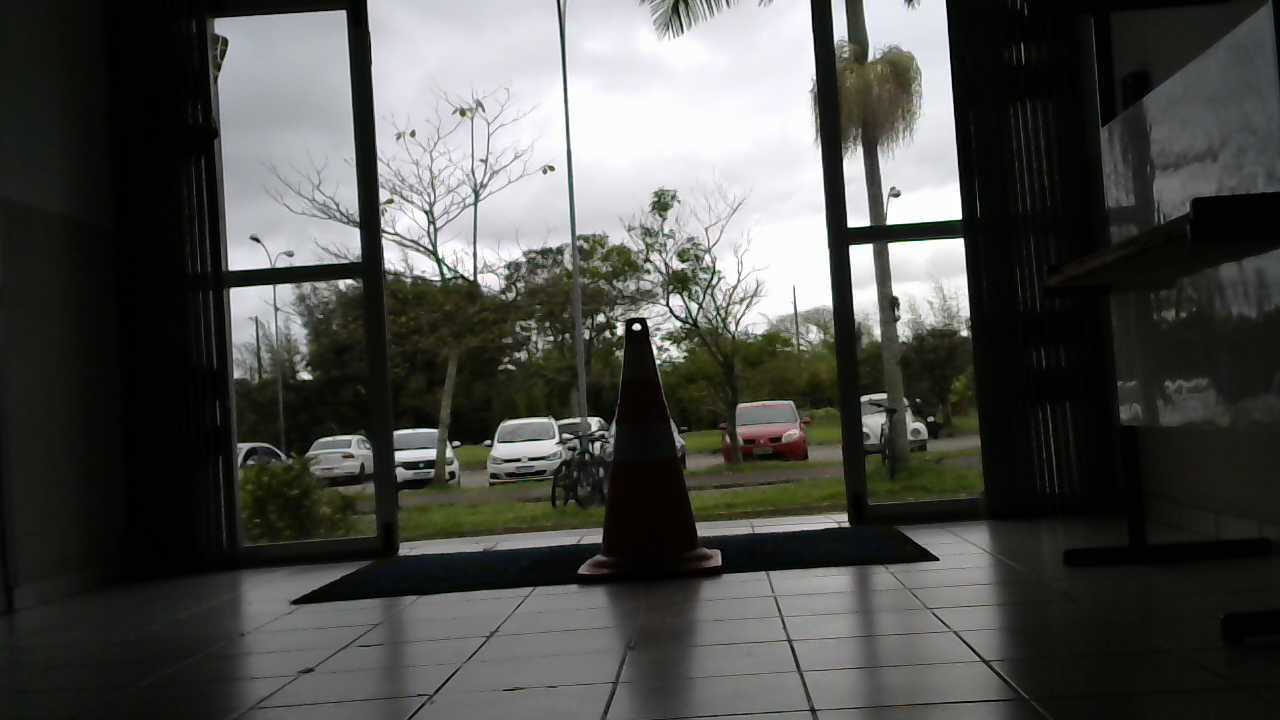cone: (586, 317, 722, 584)
